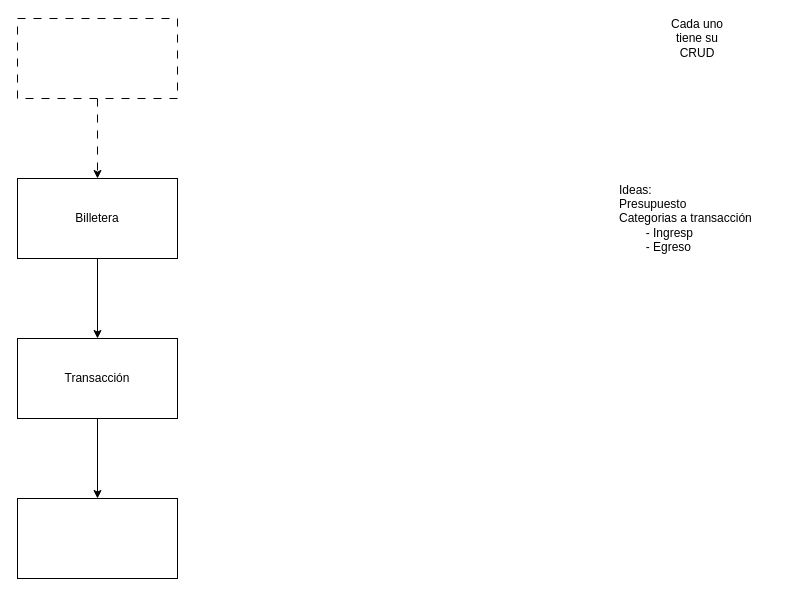
This 795x596 diagram has some shape labels left out. The box of each missing label's shape, as (x1, y1, x2, y2) in pixels:
Categoria: (16, 498, 178, 578)
Usuarios: (16, 18, 178, 98)
